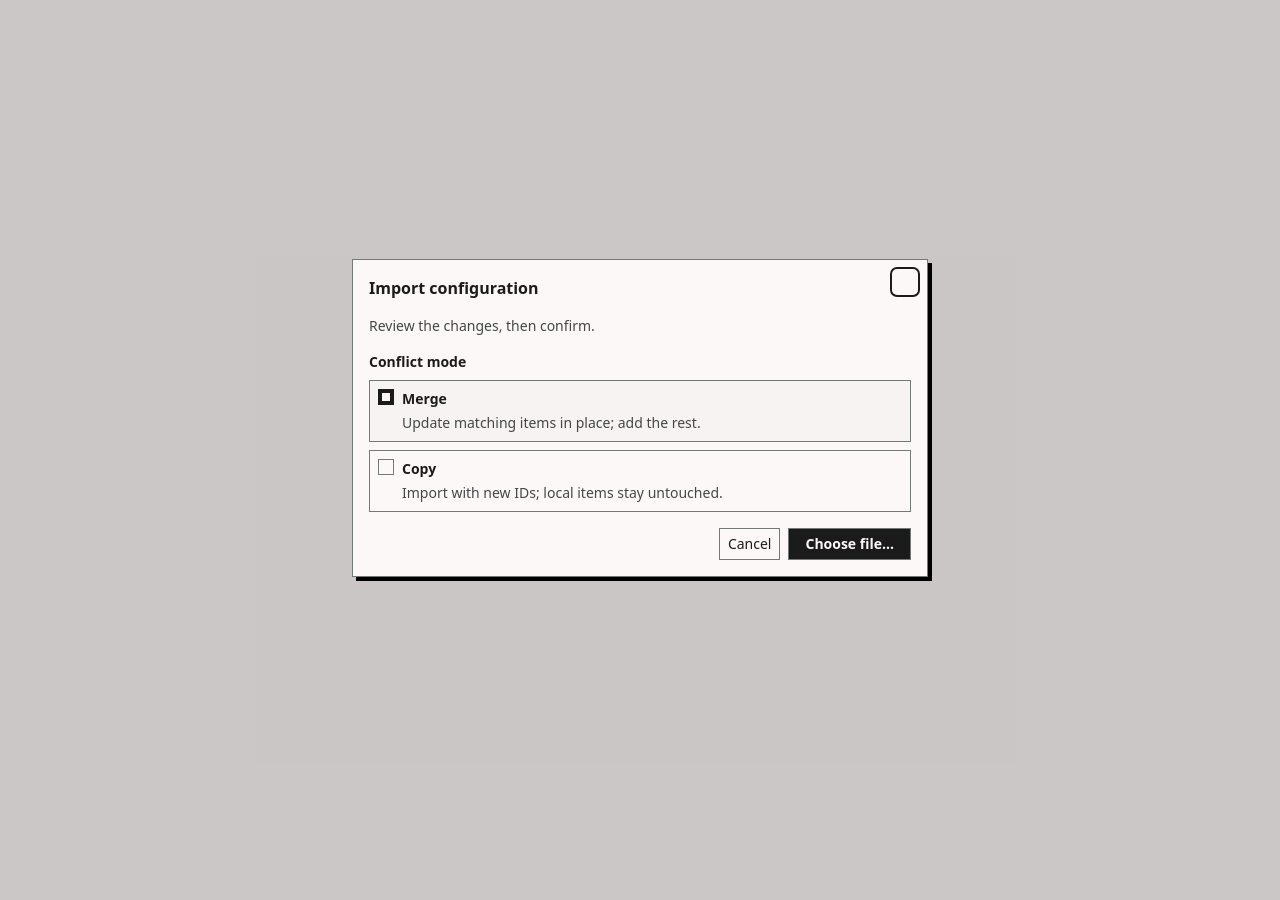
Test case: ConfigurationImportPreviewDialog apply flow › invalid preview renders every delivered validation error without an overflow summary
Click the button "Choose file…".
click(850, 544)  # box [788,528,911,560]
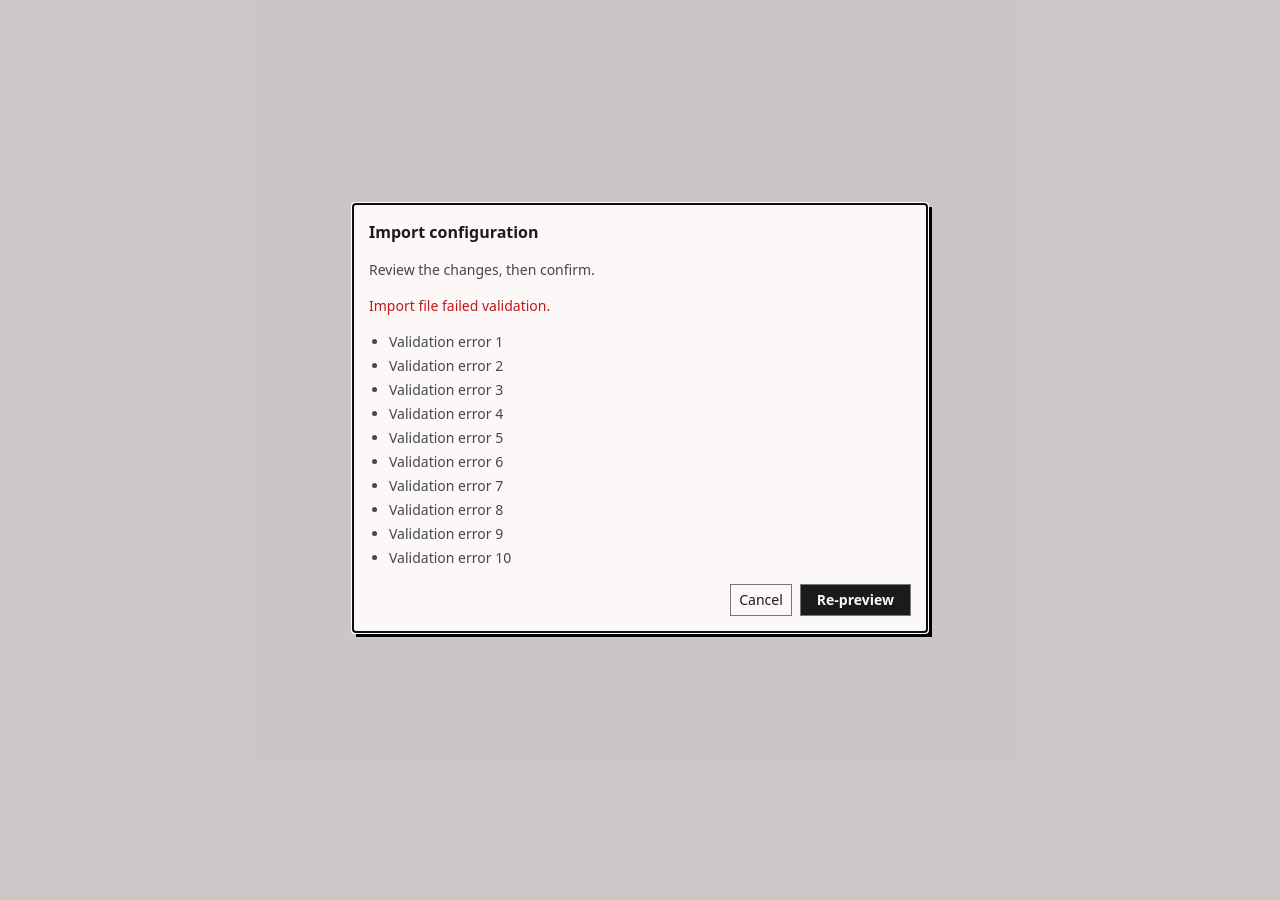
Now the message reads "Import file failed validation.", box [369,296,550,315]
Now the list item "Validation error 1" is shown, box [389,332,503,351]
Now the list item "Validation error 9" is shown, box [389,524,503,543]
